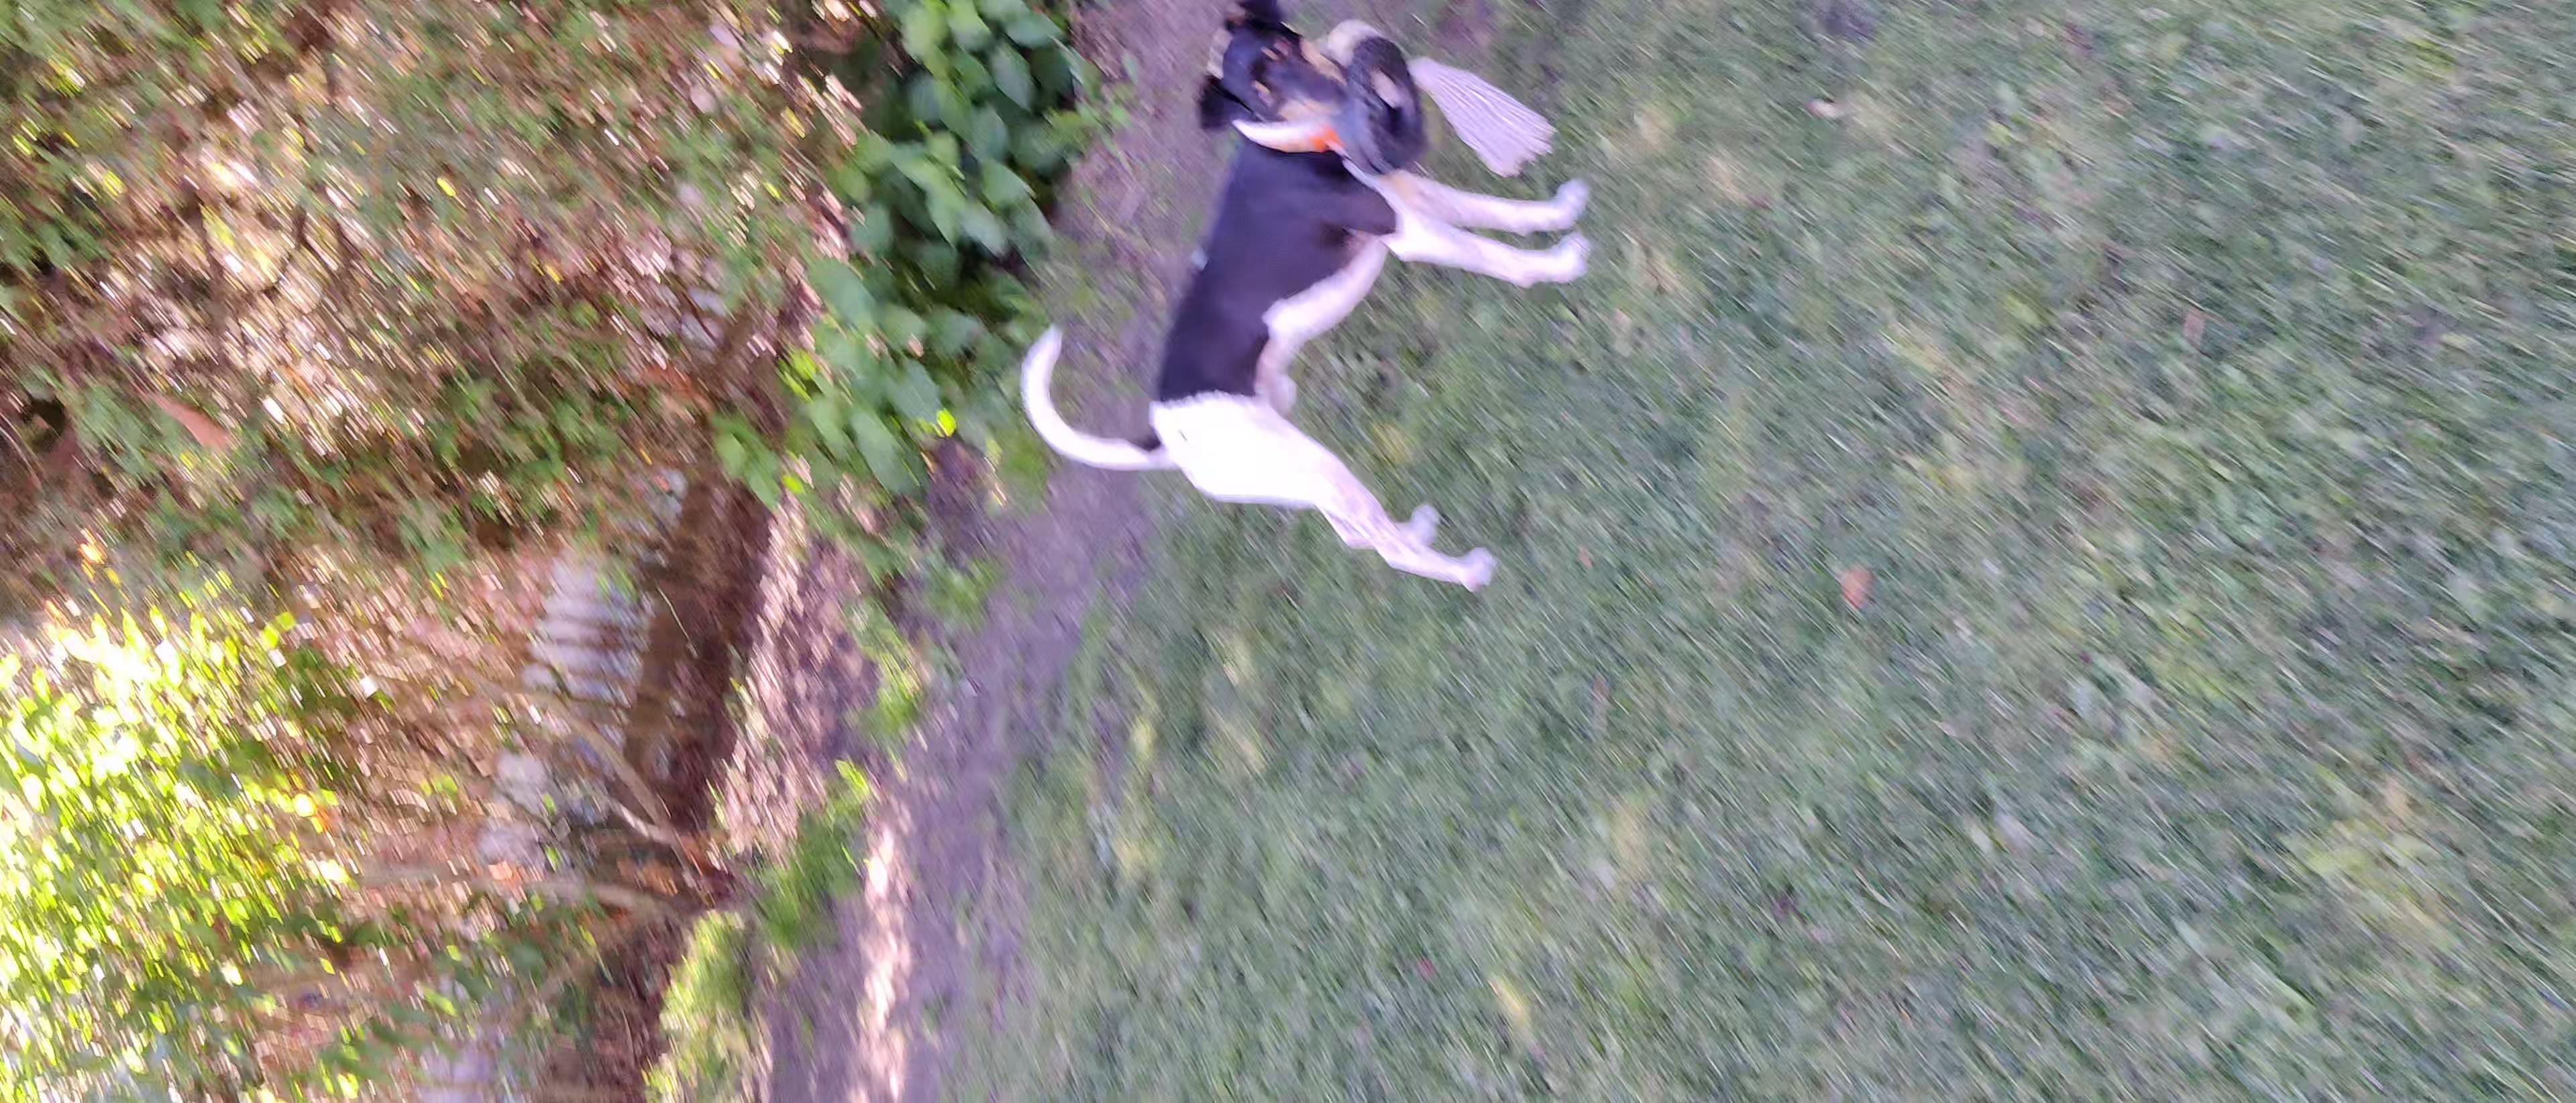Dog: (999, 0, 1600, 615)
